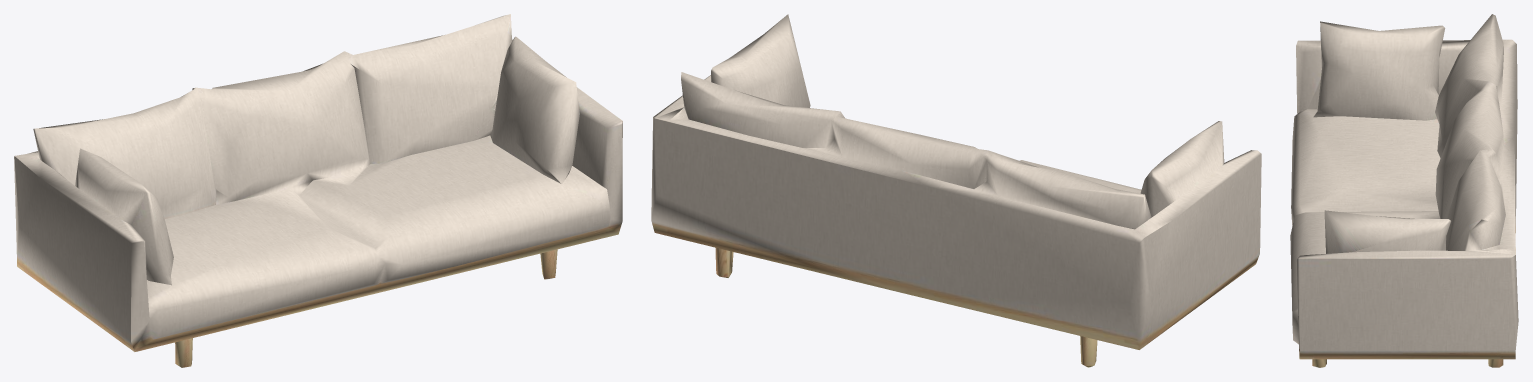
The model's file is 16 - STOCKHOLM 2025 3-seat sofa - Sundhamn beige.glb.
3 renders of one model, left to right at view 1: azimuth 30°, elevation 25°; view 2: azimuth 150°, elevation 25°; view 3: azimuth 270°, elevation 25°, orthographic. The views are drawn at different scales.
Visible parts, largest first — view 1: ASY_ART_90586092_S01_NV01; view 2: ASY_ART_90586092_S01_NV01; view 3: ASY_ART_90586092_S01_NV01.
Part boxes in pixels (box(x1,y1,x2,y2)): ASY_ART_90586092_S01_NV01: box(14, 14, 622, 367); ASY_ART_90586092_S01_NV01: box(651, 14, 1261, 367); ASY_ART_90586092_S01_NV01: box(1290, 14, 1518, 367).
Size of the model in its own units: 2.35 by 0.8528 by 1.03.
Materials: 1 (1 with a texture image).
